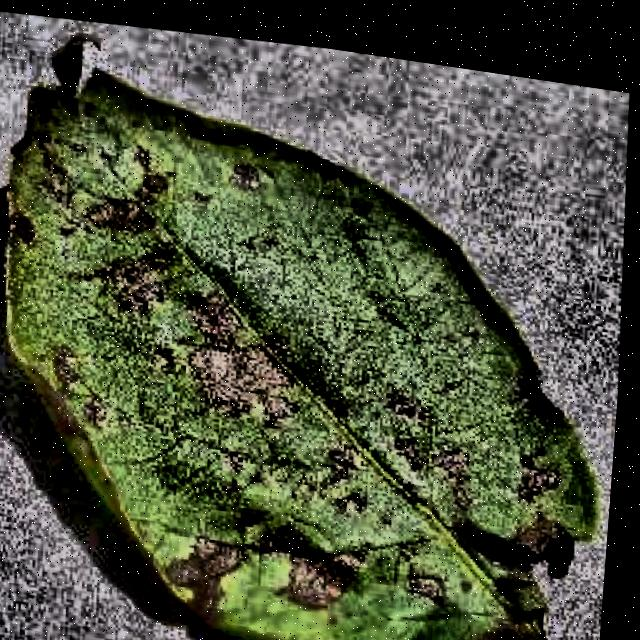Potato_leaf_early_blight: (8, 38, 596, 640)
